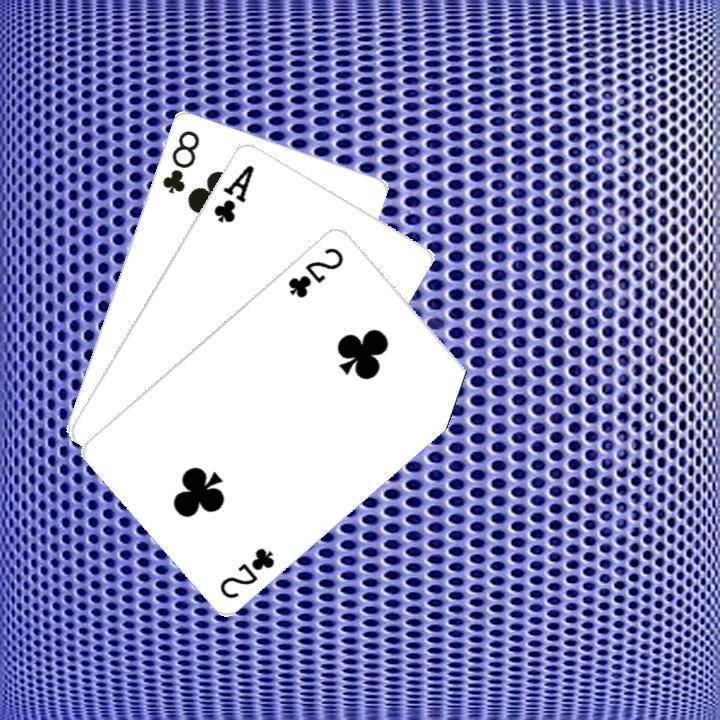2: (215, 542, 277, 601), (283, 242, 346, 300)
8: (157, 125, 202, 195)
A: (209, 160, 257, 224)
